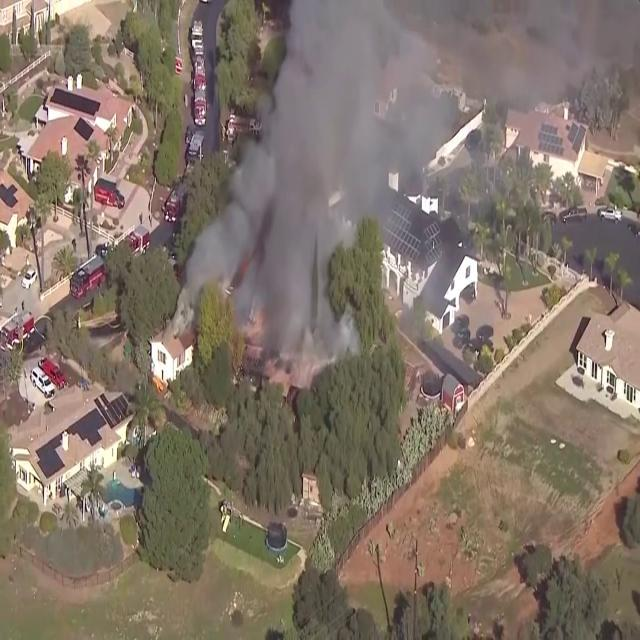Smoke: (180, 0, 495, 366)
